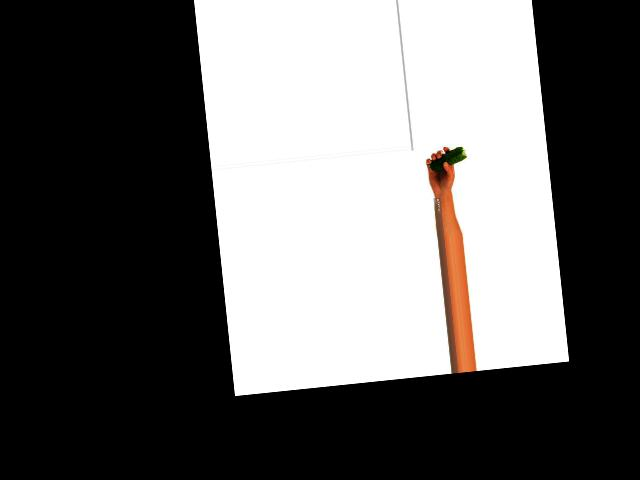cucumber: (427, 146, 467, 172)
